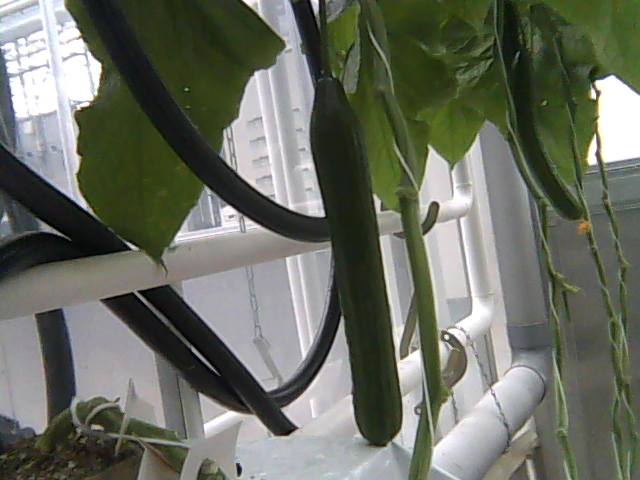concombre: (307, 71, 406, 448)
